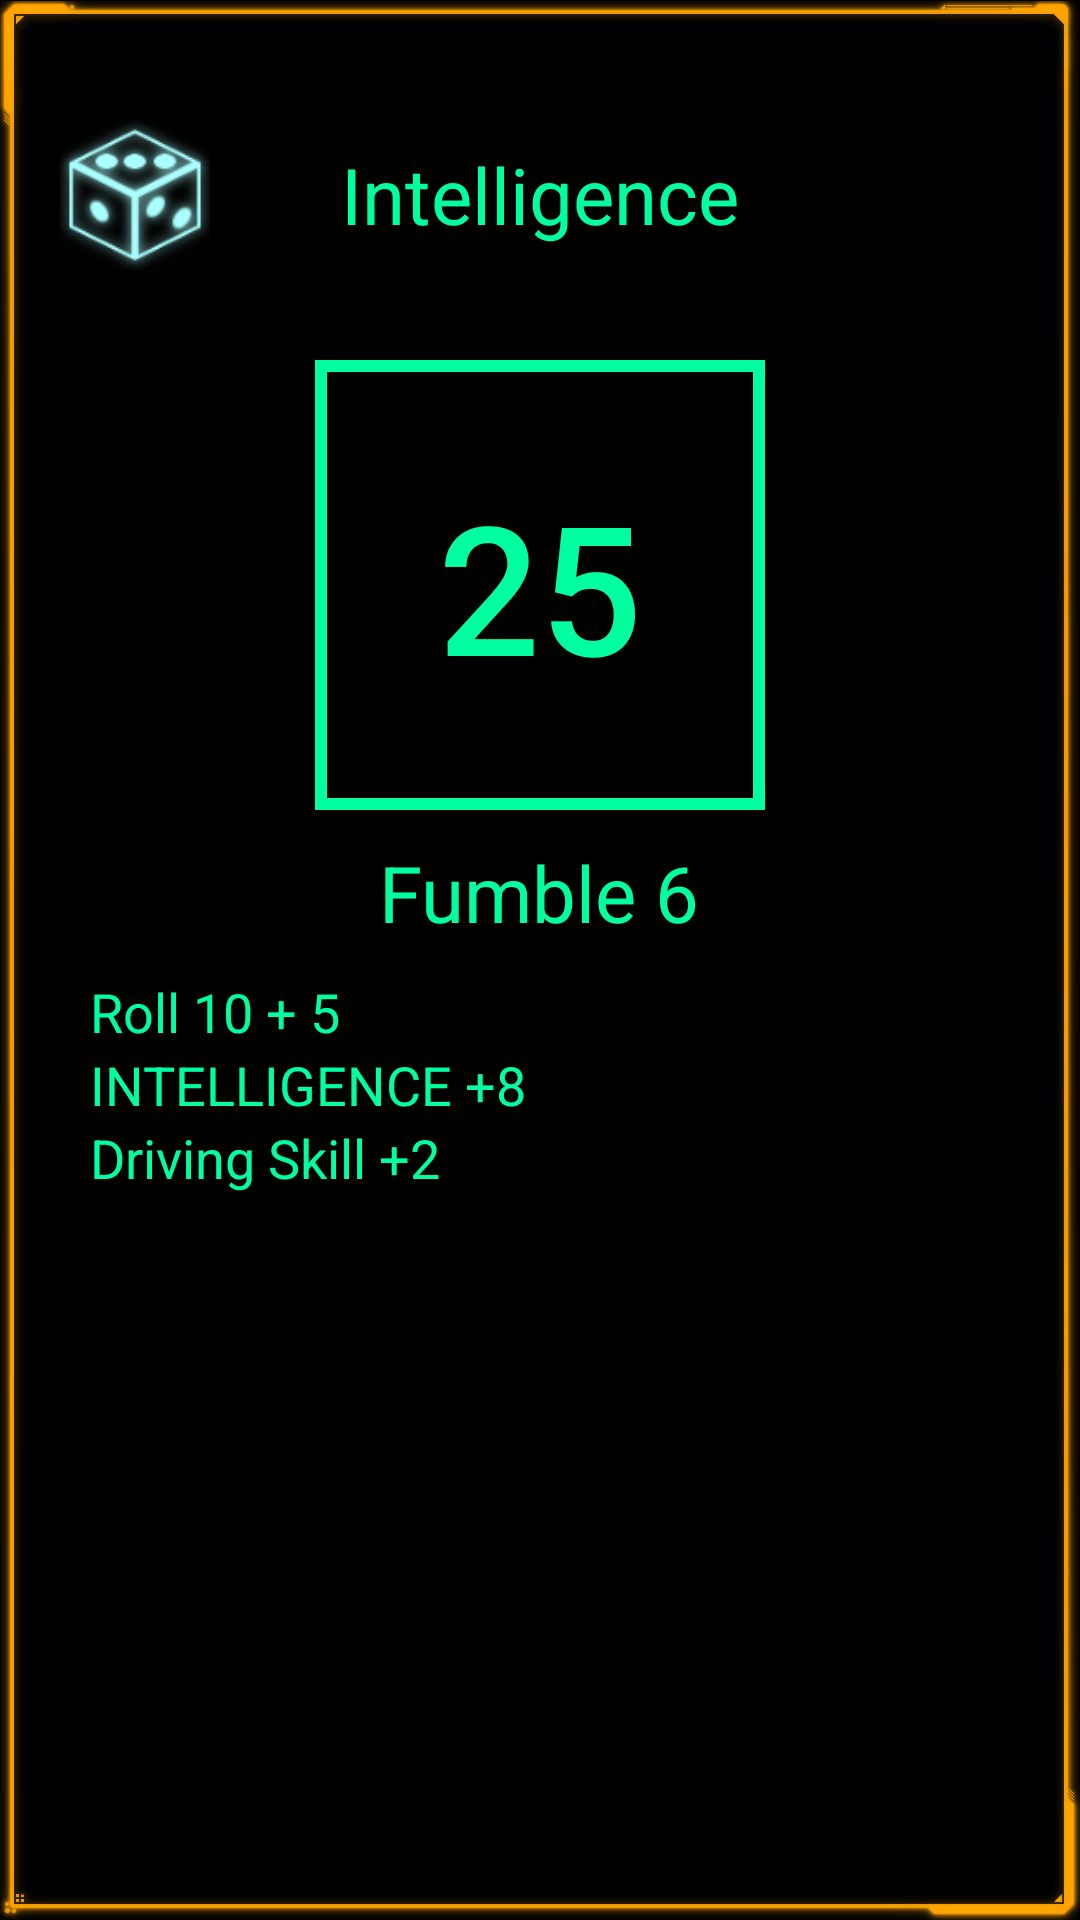

Named icons in this screenshot (1080x1920) and their bounding boxes, (x1, y1, x2, y2):
Roll: (63, 125, 207, 266)
